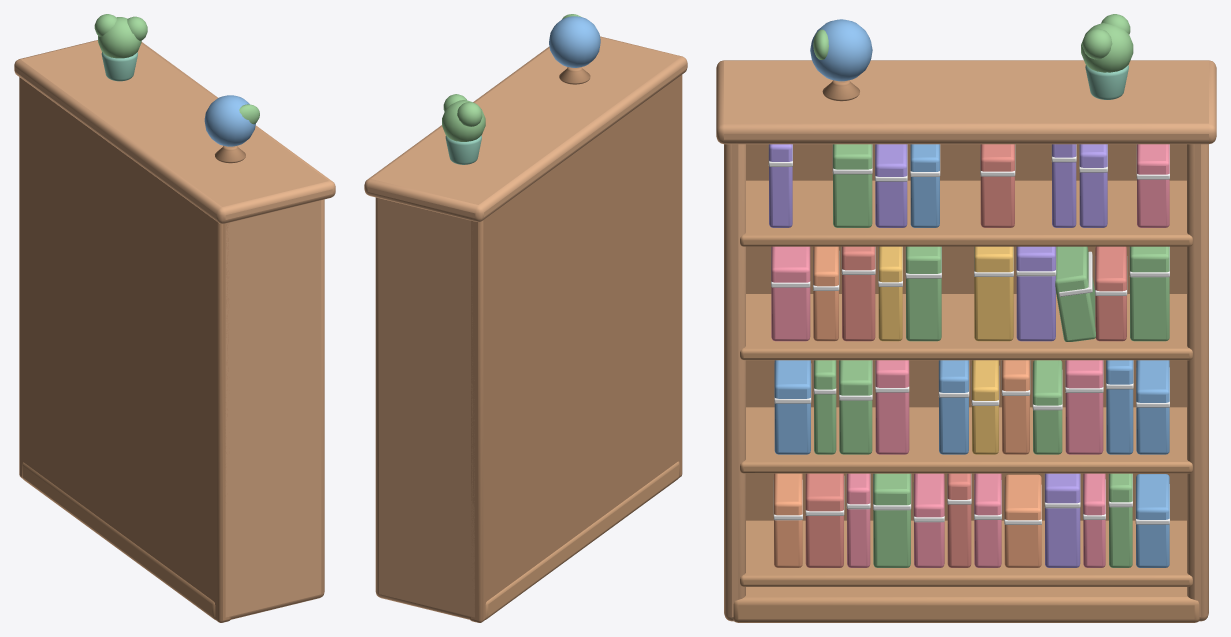
The model's file is bookshelf.glb.
The picture shows the model from 3 angles, left to right: view 1: azimuth 30°, elevation 25°; view 2: azimuth 150°, elevation 25°; view 3: azimuth 270°, elevation 25°; orthographic projection. The views are drawn at different scales.
Parts seen in each view (by area): view 1: cc99a74, ce2b088, cd8a77d, c9fd49a, c8fc1f0, pot; view 2: cc99a74, ce2b088, cd8a77d, c8fc1f0, c9fd49a, pot; view 3: cd8a77d, ce2b088, c9fd49a, cff9fb5, cc99a74, c8fc1f0, cb9a6f5, cf49a91, cffb38a, cffffff, cffd27a, pot.
Boxes of the visible parts, <box> form: cc99a74: <box>19,77,245,622</box>; ce2b088: <box>14,40,335,619</box>; cd8a77d: <box>22,462,215,619</box>; c9fd49a: <box>94,14,259,124</box>; c8fc1f0: <box>204,95,255,146</box>; pot: <box>101,52,137,81</box>; cc99a74: <box>469,67,682,622</box>; ce2b088: <box>364,36,687,619</box>; cd8a77d: <box>485,461,679,619</box>; c8fc1f0: <box>549,16,600,67</box>; c9fd49a: <box>442,14,580,141</box>; pot: <box>445,135,481,164</box>; cd8a77d: <box>733,180,1199,622</box>; ce2b088: <box>716,60,1216,621</box>; c9fd49a: <box>813,14,1169,567</box>; cff9fb5: <box>771,144,1169,567</box>; cc99a74: <box>746,80,1186,520</box>; c8fc1f0: <box>774,19,1169,567</box>; cb9a6f5: <box>769,144,1107,567</box>; cf49a91: <box>805,144,1126,567</box>; cffb38a: <box>774,246,1041,567</box>; cffffff: <box>768,144,1169,524</box>; cffd27a: <box>878,246,1013,454</box>; pot: <box>1085,65,1128,99</box>.
Size of the model in its own units: 1.05 by 4.06 by 3.2.
